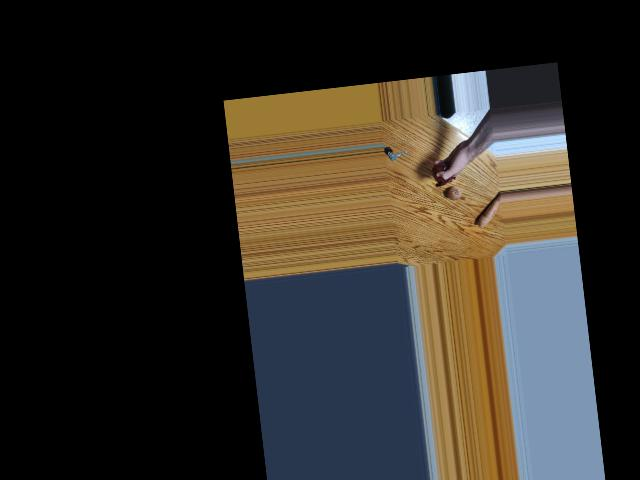onion: (446, 183, 462, 201)
